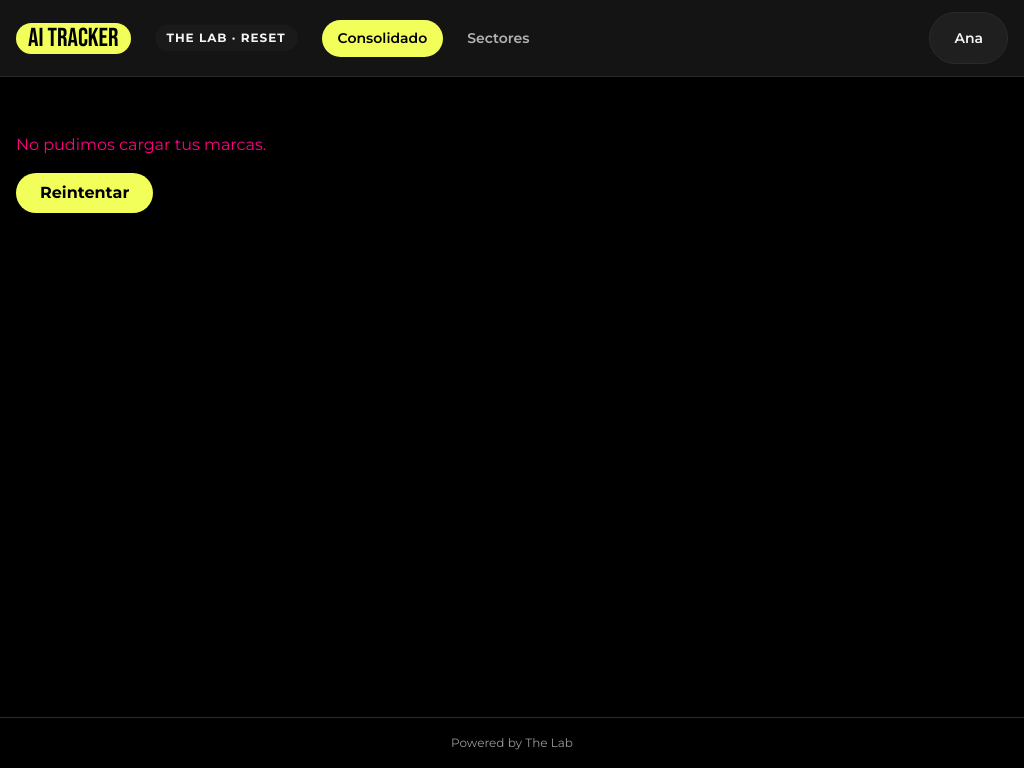
shell › si falla la carga de proyectos, avisa y permite reintentar en vez de mostrar el estado vacío
The width and height of the screenshot is (1024, 768).
Expected: the text "No pudimos cargar tus marcas." is shown, x1=16 y1=133 x2=266 y2=157
Expected: the text "todavía no tienes marcas" is not shown
Click the button "Reintentar": (85,193) x1=16 y1=173 x2=153 y2=213
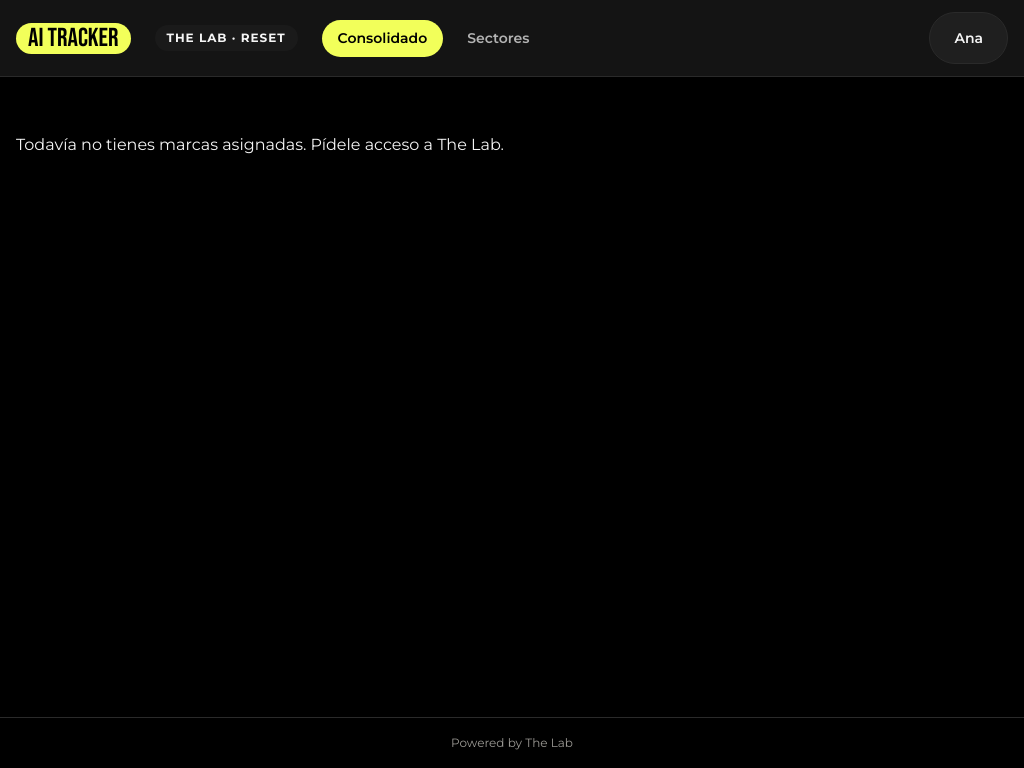
Now the text "Todavía no tienes marcas asignadas. Pídele acceso a The Lab." is shown, box x1=16 y1=133 x2=504 y2=157
